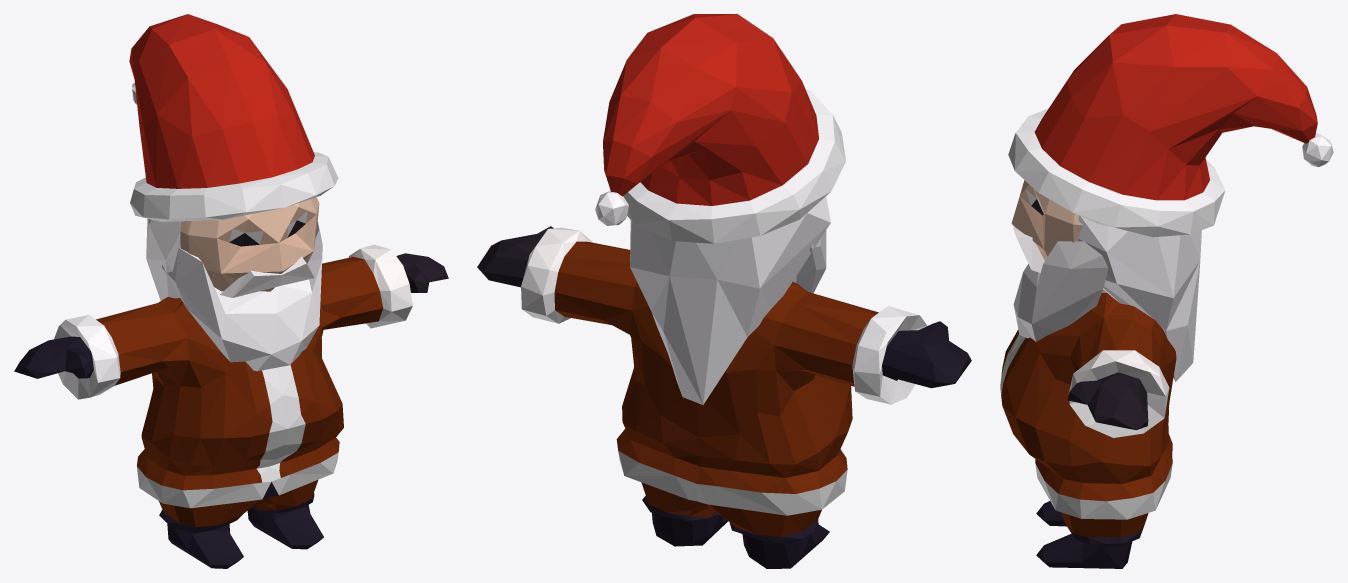
Rendered from Santa_Claus.FBX.
3 renders of one model, left to right at view 1: azimuth 30°, elevation 25°; view 2: azimuth 150°, elevation 25°; view 3: azimuth 270°, elevation 25°, orthographic. The views are drawn at different scales.
Parts seen in each view (by area): view 1: Cube; view 2: Cube; view 3: Cube.
Boxes of the visible parts, <box> form: Cube: <box>14,14,448,568</box>; Cube: <box>477,14,971,568</box>; Cube: <box>1000,14,1333,568</box>.
Bounding box in the file's own units: 888 × 984 × 574.
